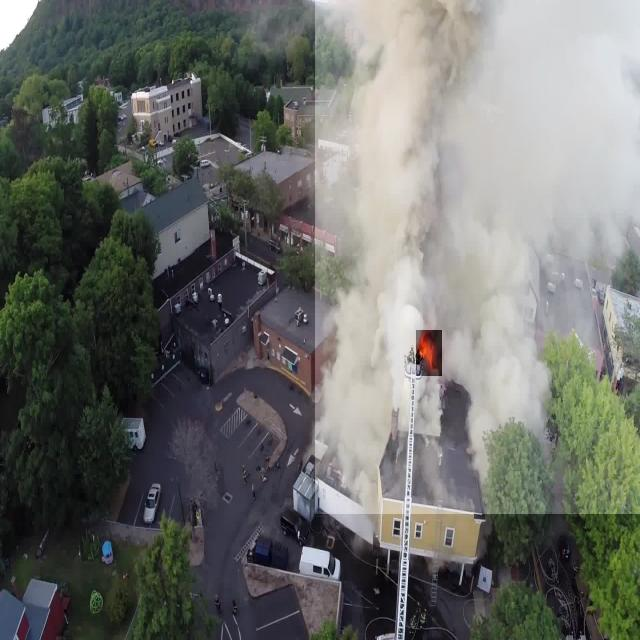Fire: (416, 331, 442, 376)
Smoke: (315, 0, 640, 514)
